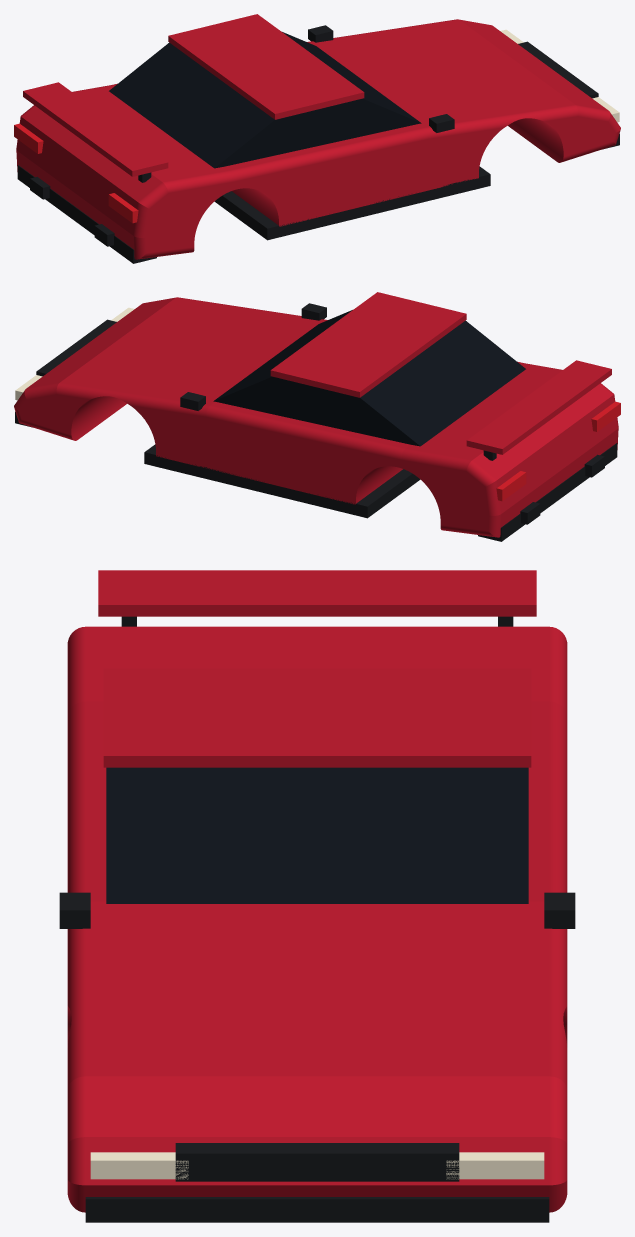
File: sports.glb
3 views of the same model, one above another, from view 1: azimuth 30°, elevation 25°; view 2: azimuth 150°, elevation 25°; view 3: azimuth 270°, elevation 25° (orthographic). The views are drawn at different scales.
Visible parts, largest first — view 1: Body, Glass, Roof, BodyX0, Trim3, Trim2, Trim1, Tail1, Tail0, Trim5, Trim4; view 2: Body, Glass, Roof, BodyX0, Trim3, Trim2, Trim1, Tail0, Tail1, Trim4, Trim5; view 3: Body, Glass, Roof, BodyX0, Trim0, Trim1, Head1, Head0, Trim4, Trim5.
Boxes of the visible parts, bbox=[...] form: Body: bbox=[16, 19, 620, 259]; Glass: bbox=[109, 32, 421, 168]; Roof: bbox=[168, 14, 364, 119]; BodyX0: bbox=[23, 82, 168, 176]; Trim3: bbox=[214, 166, 490, 240]; Trim2: bbox=[17, 165, 156, 263]; Trim1: bbox=[518, 41, 598, 98]; Tail1: bbox=[108, 193, 138, 223]; Tail0: bbox=[14, 123, 43, 153]; Trim5: bbox=[429, 114, 454, 132]; Trim4: bbox=[308, 25, 333, 42]; Body: bbox=[14, 297, 618, 537]; Glass: bbox=[213, 310, 525, 446]; Roof: bbox=[270, 292, 466, 397]; BodyX0: bbox=[466, 360, 611, 454]; Trim3: bbox=[144, 444, 420, 518]; Trim2: bbox=[478, 443, 617, 541]; Trim1: bbox=[36, 319, 116, 376]; Tail0: bbox=[496, 471, 526, 501]; Tail1: bbox=[591, 401, 620, 431]; Trim4: bbox=[180, 392, 205, 410]; Trim5: bbox=[301, 303, 326, 320]; Body: bbox=[67, 626, 567, 1212]; Glass: bbox=[106, 767, 528, 903]; Roof: bbox=[103, 668, 531, 767]; BodyX0: bbox=[98, 570, 536, 616]; Trim0: bbox=[85, 1197, 549, 1222]; Trim1: bbox=[175, 1143, 459, 1181]; Head1: bbox=[90, 1152, 188, 1179]; Head0: bbox=[446, 1152, 544, 1179]; Trim4: bbox=[544, 892, 575, 928]; Trim5: bbox=[59, 892, 90, 928].
Bounding box in the file's own units: 4.43 × 0.99 × 2.
